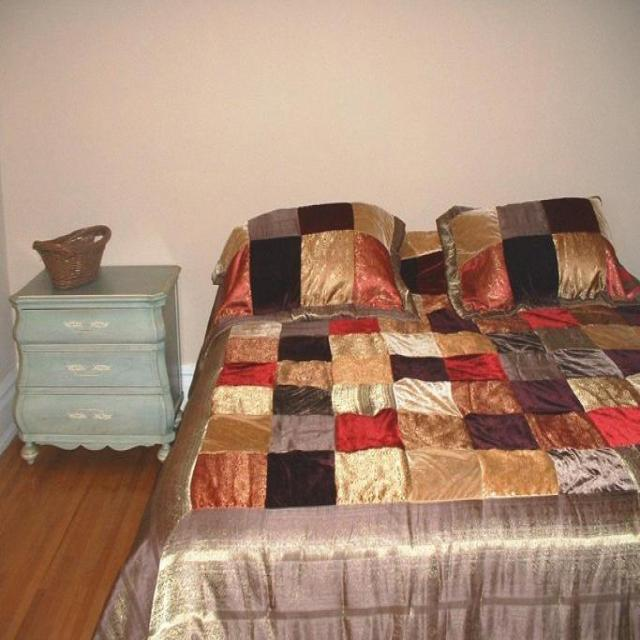bed: (91, 196, 639, 639)
cupboard: (8, 263, 182, 465)
pillows: (435, 194, 639, 318)
pots: (32, 224, 111, 288)
